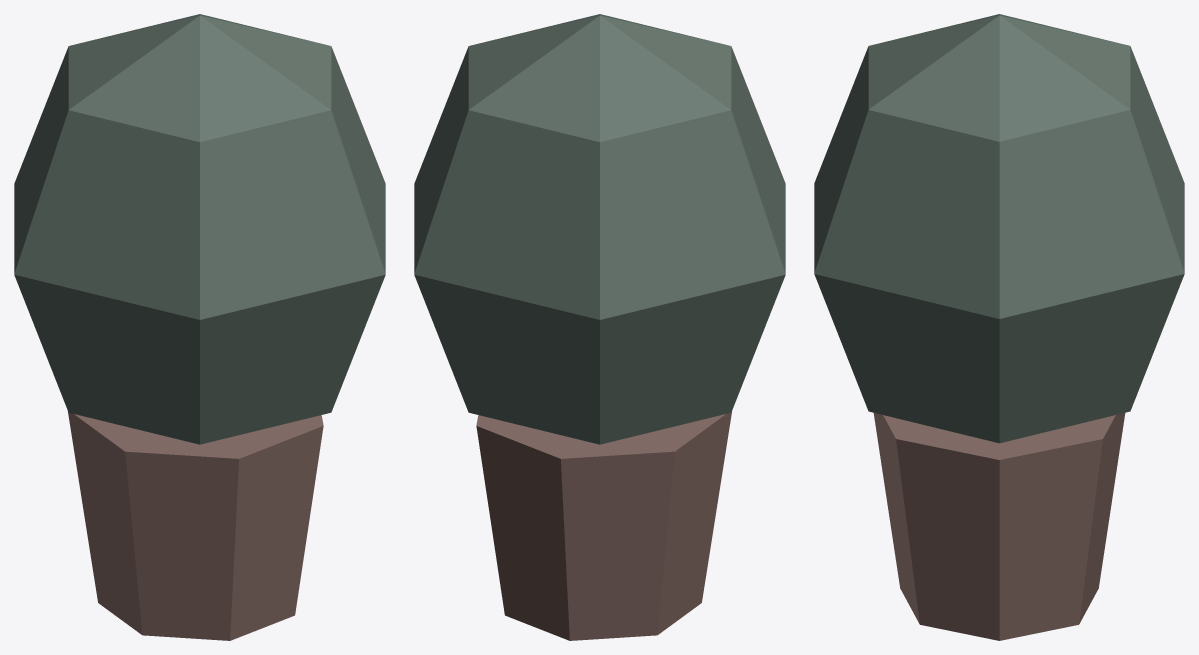
The model's file is planta.glb.
3 views of the same model, side by side, from view 1: azimuth 30°, elevation 25°; view 2: azimuth 150°, elevation 25°; view 3: azimuth 270°, elevation 25° (orthographic).
Visible parts, largest first — view 1: Planta; view 2: Planta; view 3: Planta.
Part boxes in pixels (x1=…): Planta: x1=14, y1=14, x2=385, y2=640; Planta: x1=414, y1=14, x2=785, y2=640; Planta: x1=814, y1=14, x2=1184, y2=640.
Bounding box in the file's own units: 0.84 × 1.26 × 0.7275.
